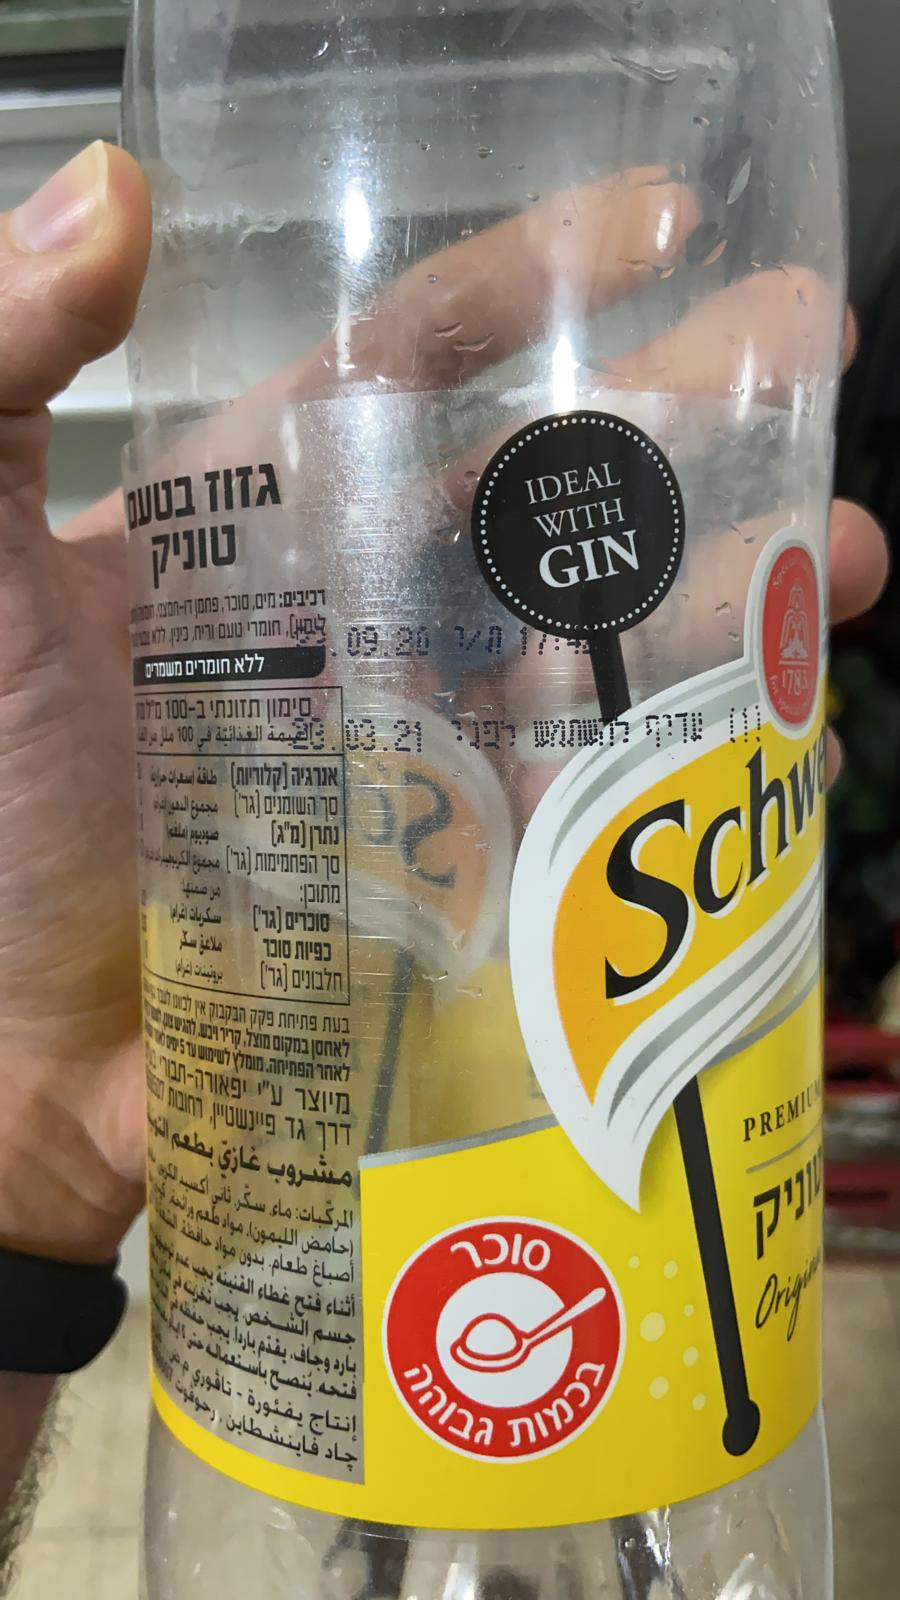sugar: (382, 1216, 624, 1463)
